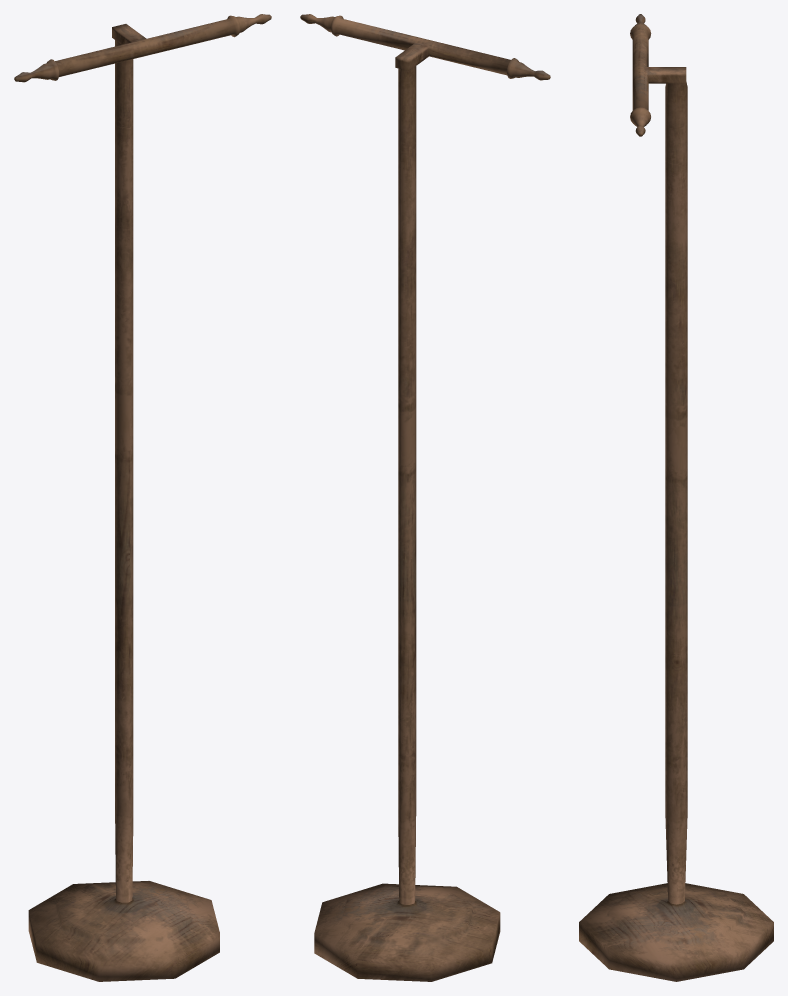
File: StandingBannerHolder.fbx
The picture shows the model from 3 angles, left to right: view 1: azimuth 30°, elevation 25°; view 2: azimuth 150°, elevation 25°; view 3: azimuth 270°, elevation 25°; orthographic projection. The views are drawn at different scales.
Parts seen in each view (by area): view 1: StandingBannerHolder; view 2: StandingBannerHolder; view 3: StandingBannerHolder.
Boxes of the visible parts, left/top/right/bottom form: StandingBannerHolder: left=14, top=14, right=271, bottom=981; StandingBannerHolder: left=300, top=14, right=550, bottom=981; StandingBannerHolder: left=579, top=14, right=773, bottom=981.
Bounding box in the file's own units: 122 × 416 × 83.88.
